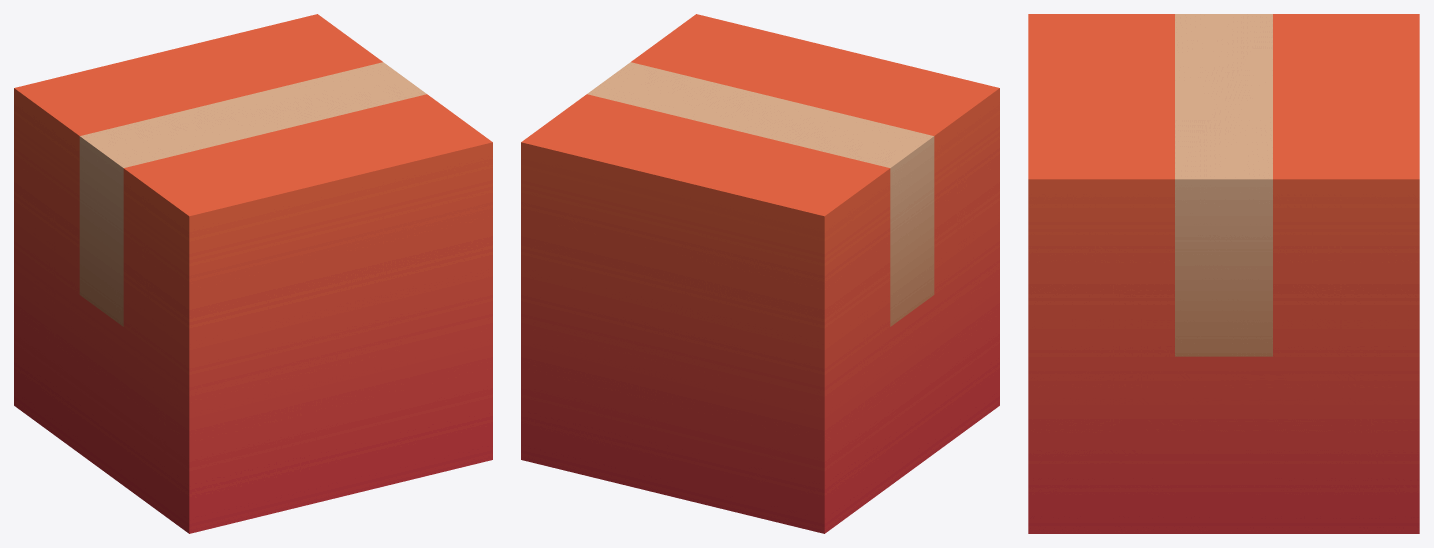
The model's file is Red.glb.
The picture shows the model from 3 angles, left to right: view 1: azimuth 30°, elevation 25°; view 2: azimuth 150°, elevation 25°; view 3: azimuth 270°, elevation 25°; orthographic projection. The views are drawn at different scales.
Visible parts, largest first — view 1: box-small; view 2: box-small; view 3: box-small.
Boxes of the visible parts, x1,y1,x2,y2 form: box-small: (14,14,492,533); box-small: (521,14,999,533); box-small: (1028,14,1419,533).
Size of the model in its own units: 0.5 by 0.5 by 0.5.
1 material, 1 textured.
